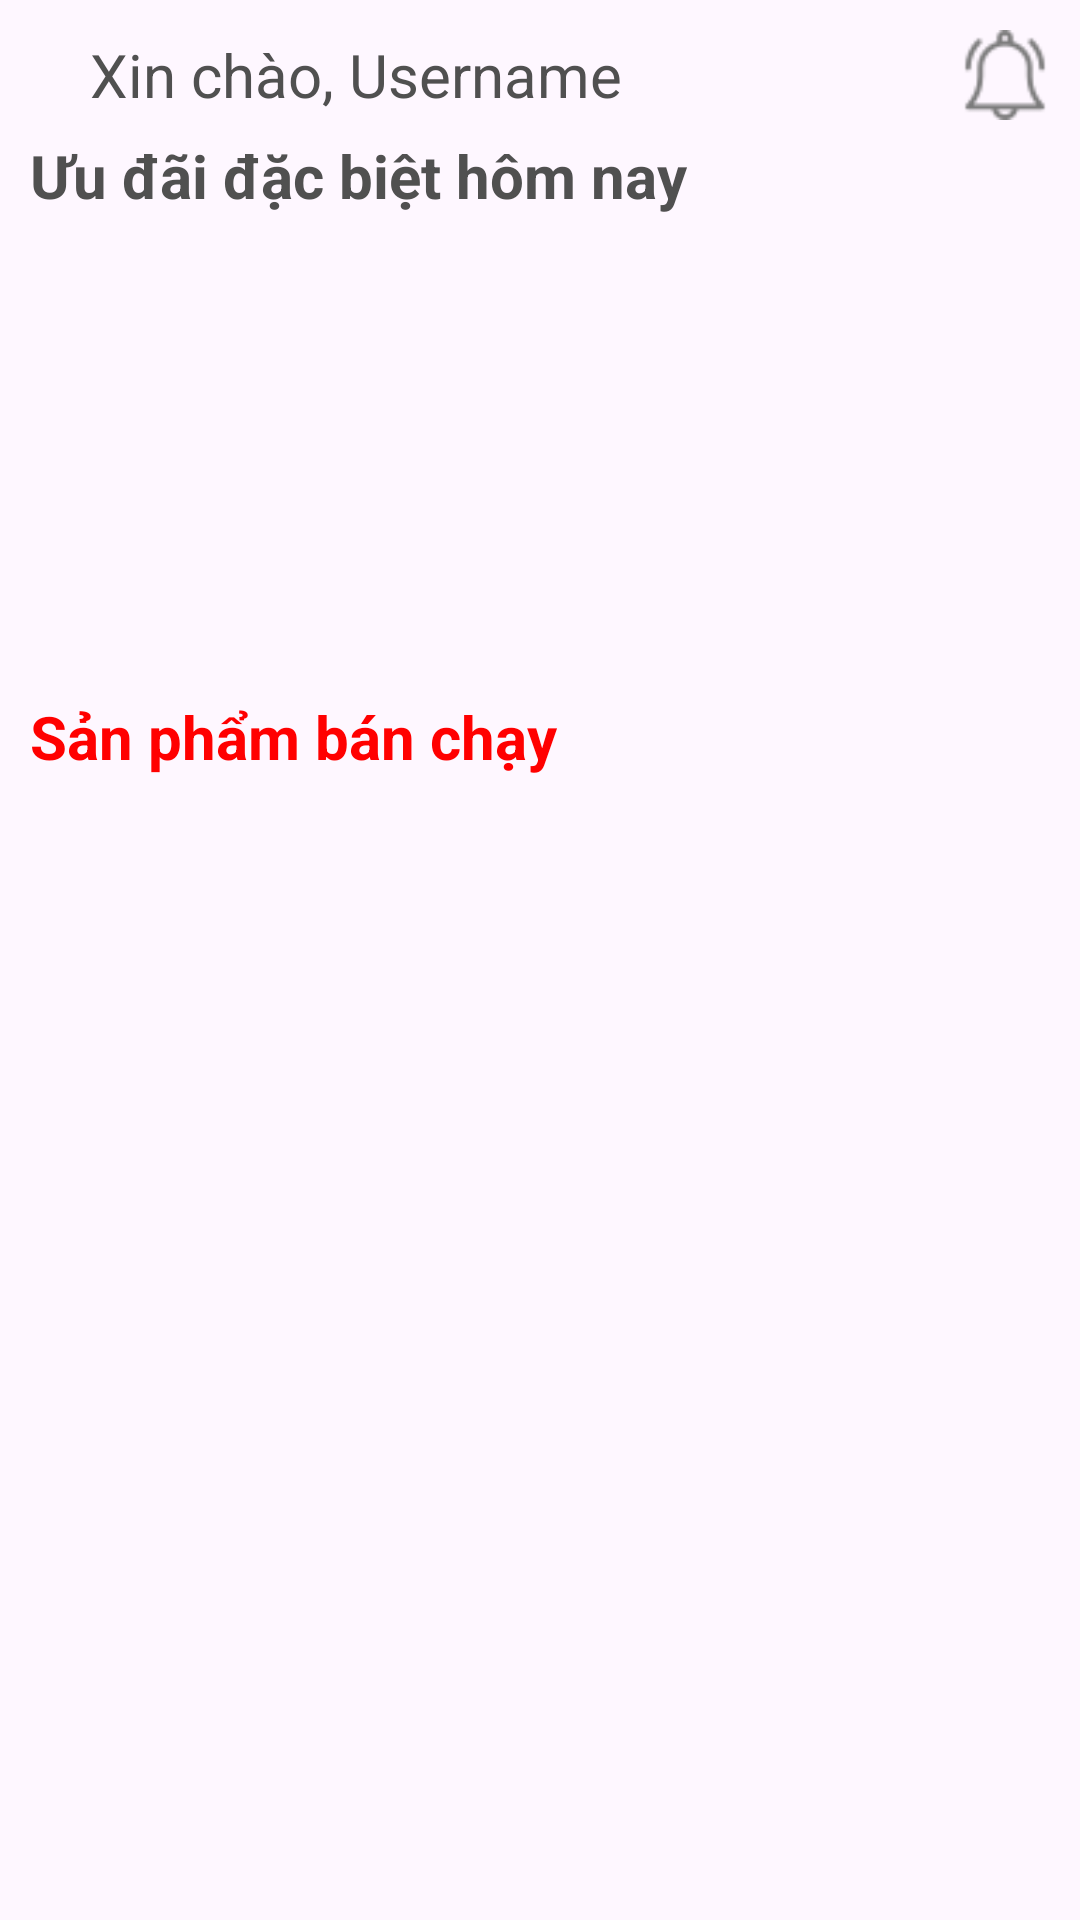

Icons on this 1080x1920 Android screen, each with the point to tap as [x,y]:
notification: [1005,75]
